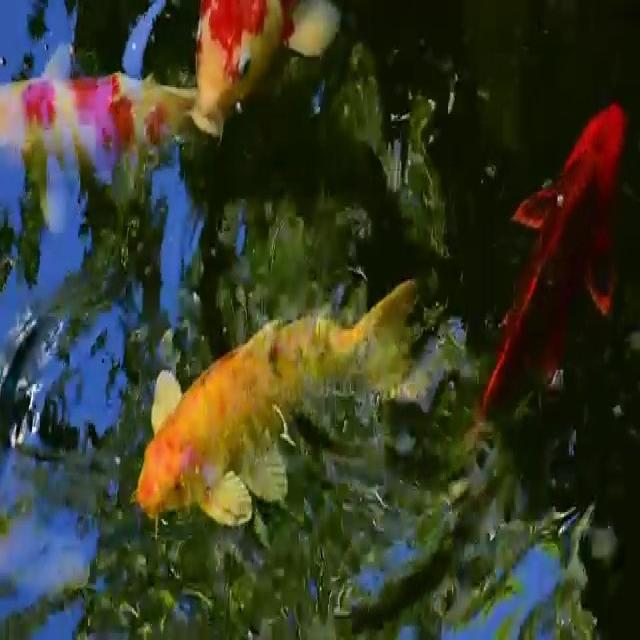fish: (120, 273, 437, 535), (479, 88, 630, 455), (185, 1, 347, 144), (0, 59, 208, 160)
